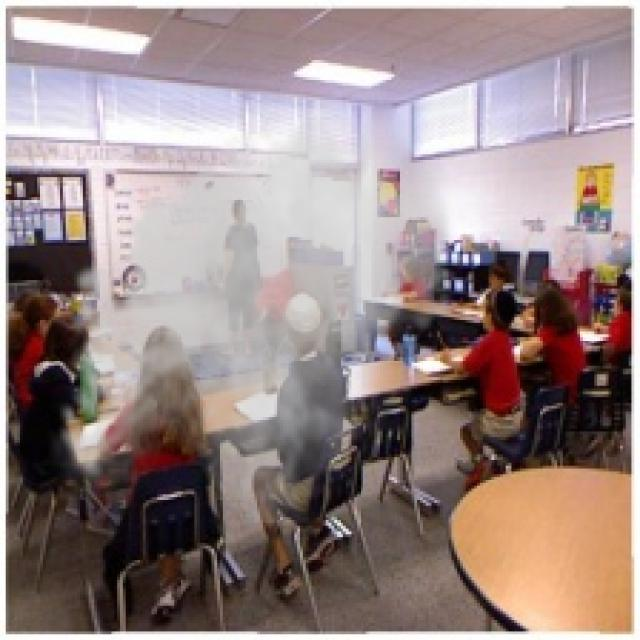smoke: (46, 103, 460, 528)
